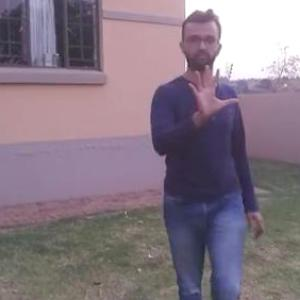follow_hand: (184, 61, 243, 117)
